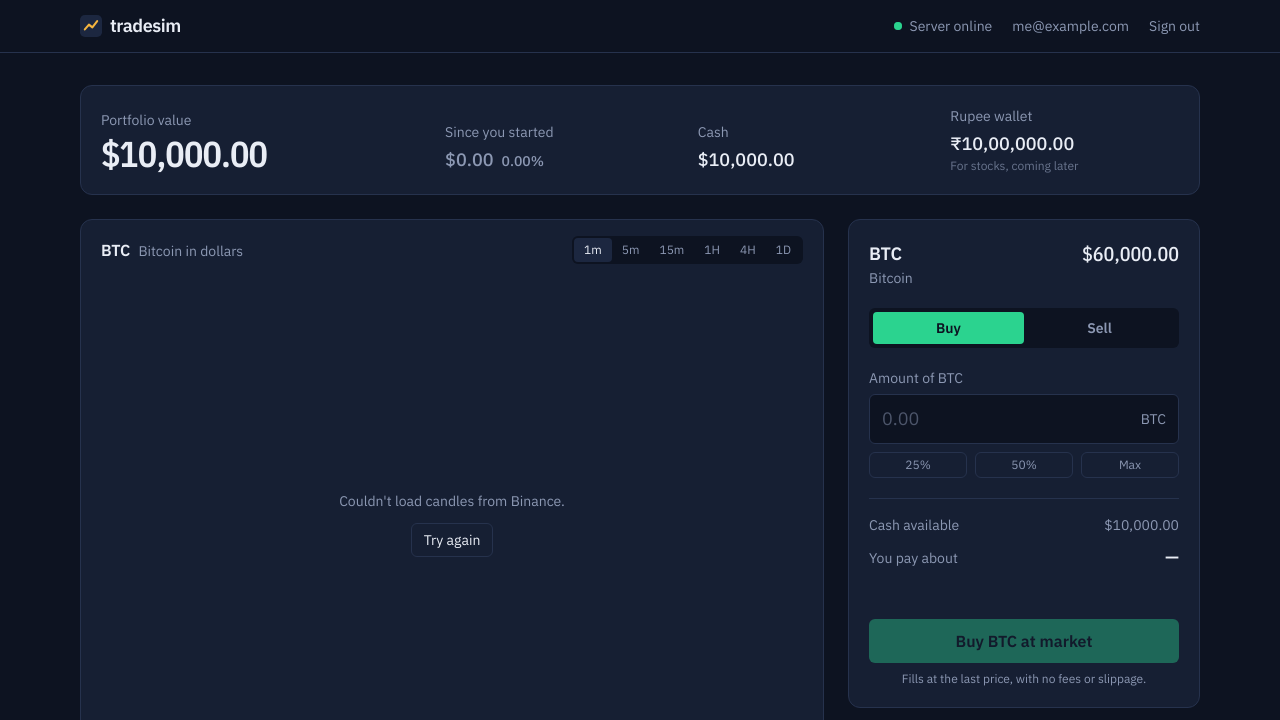
Test case: buying shows the cost first, sends an idempotency key, then updates the wallet
Type "0.05" into the field labelled "Amount of BTC BTC".
click(1005, 419); type("0.05")  # box [870, 395, 1141, 443]
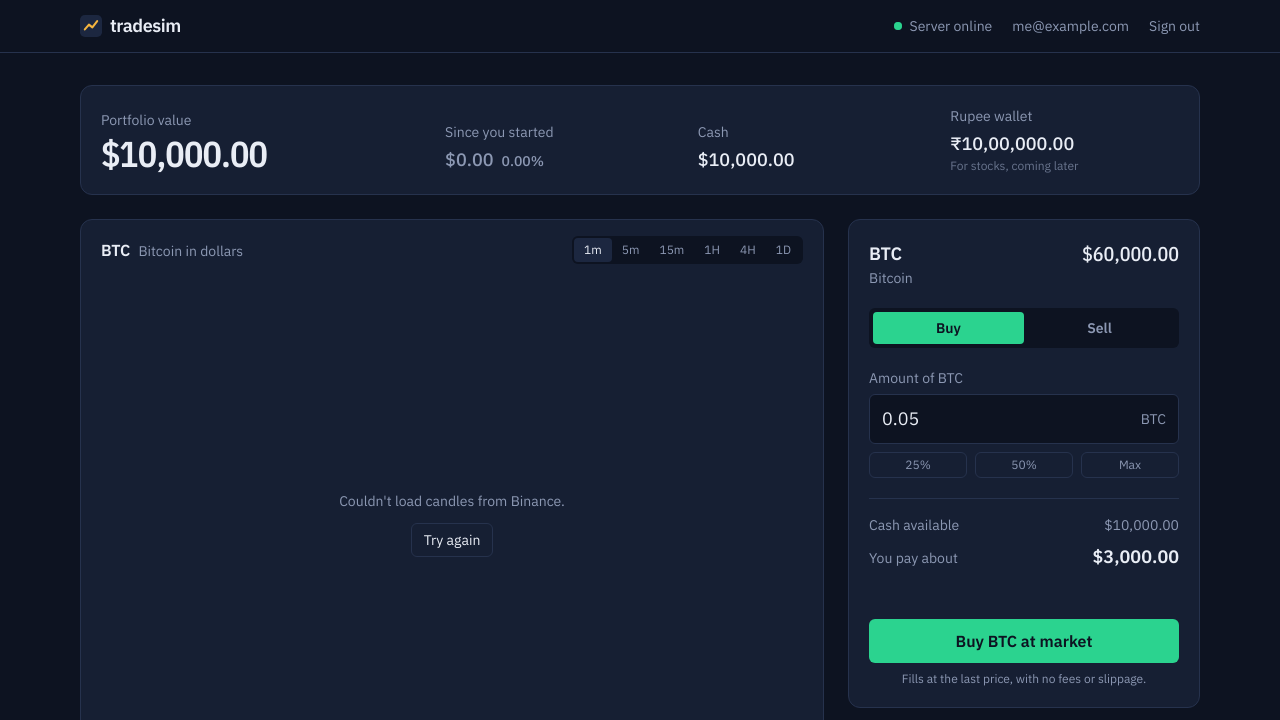
Click the button "Buy BTC at market".
click(1024, 641)  # box [869, 619, 1179, 663]
(page scrolled)
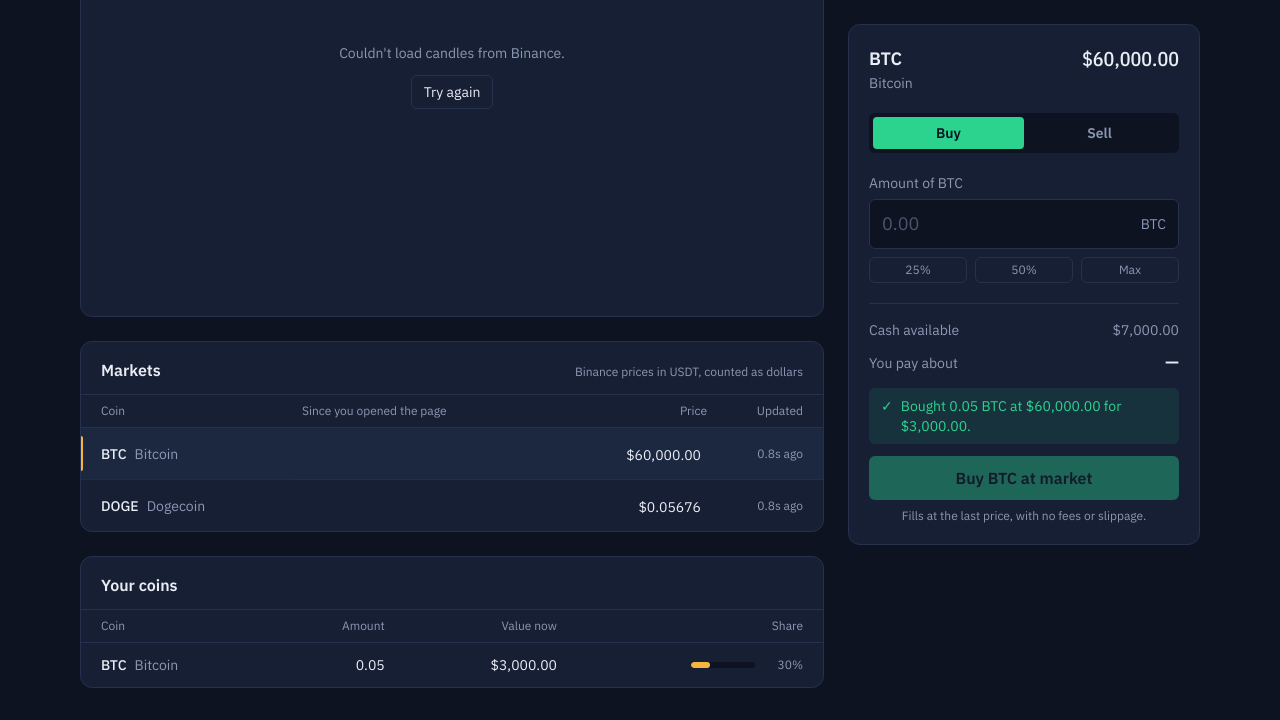
Expected: the message shows "Bought 0.05 BTC at $60,000.00 for $3,000.00", [901, 397, 1121, 435]
Expected: the element named "Holdings" shows "0.05", [356, 656, 385, 674]
